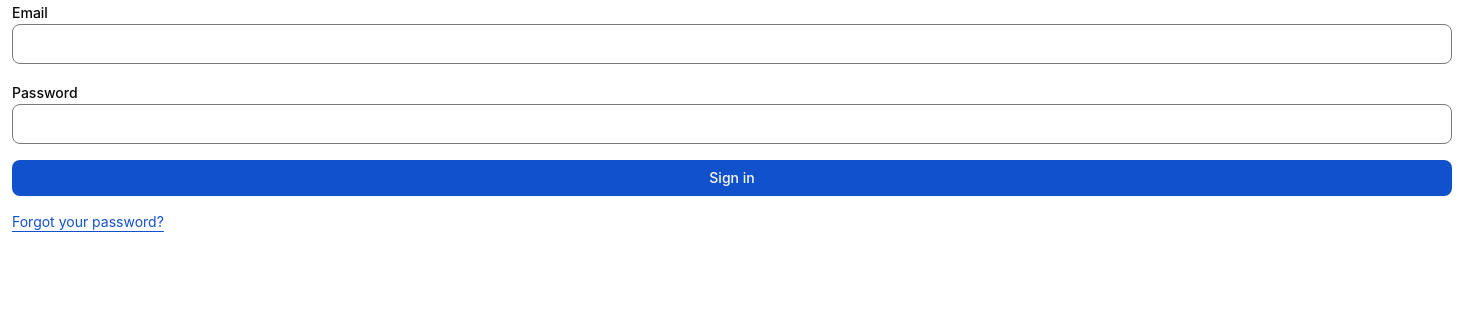
SignInForm › sends credentials, locale and next to the action and shows the returned message key
Type "a@example.com" into the field labelled "Email" at (732, 44), box [12,24,1452,64]
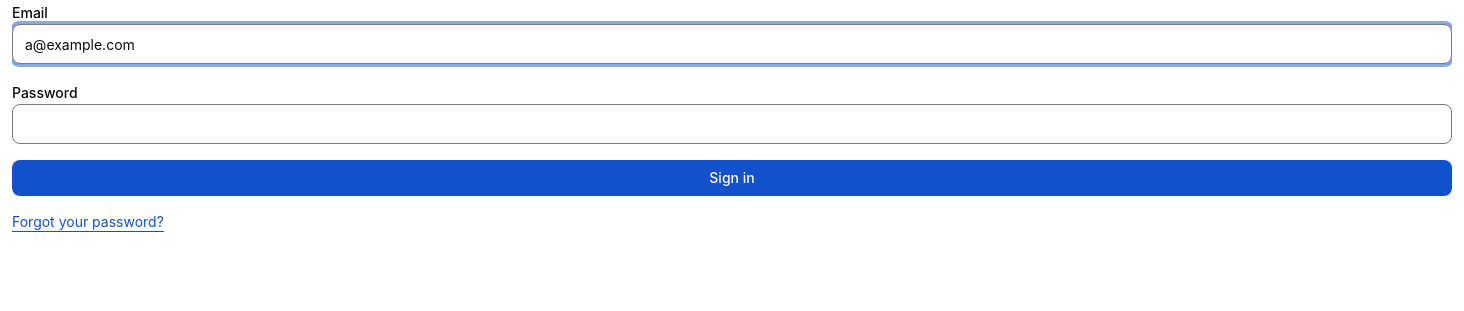
Type "Example-Wrong-3" into the password field labelled "Password" at (732, 124), box [12,104,1452,144]
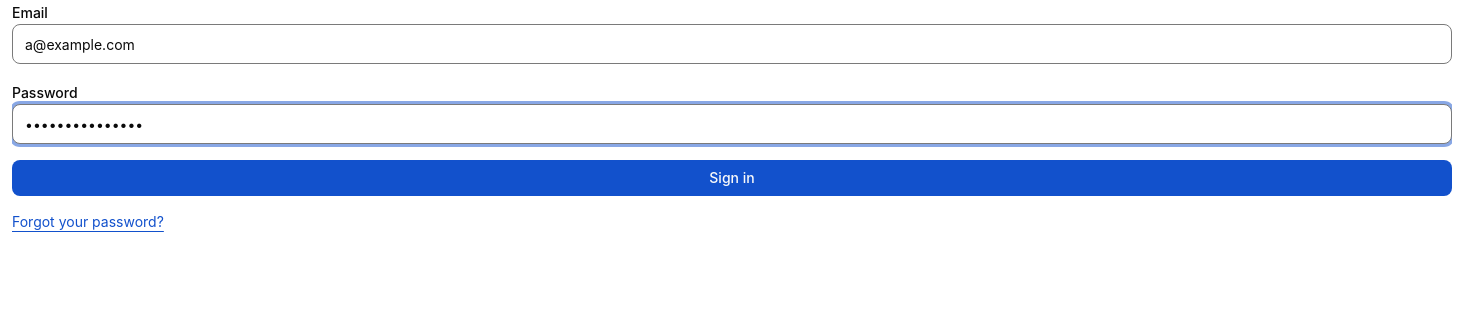
Click the button "Sign in" at (732, 178), box [12,160,1452,196]
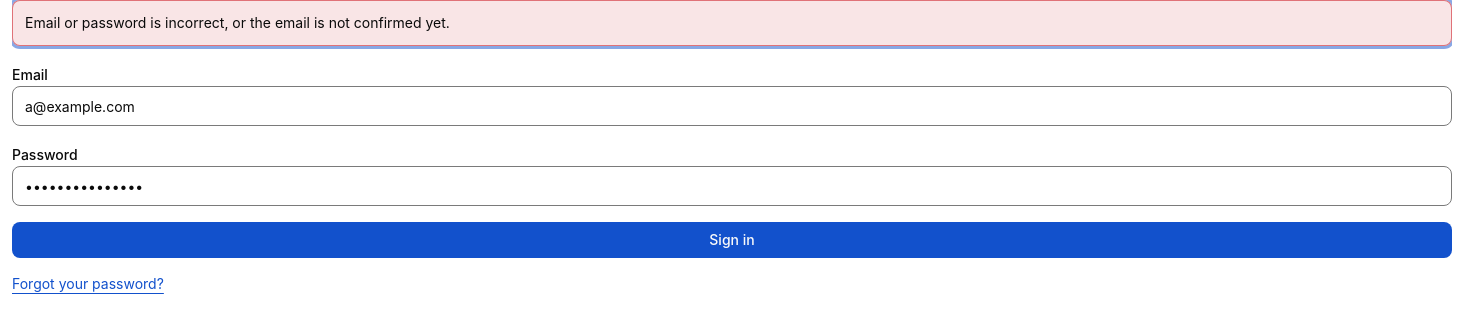
Now the message reads "Email or password is incorrect, or the email is not confirmed yet.", box [25,14,450,31]
